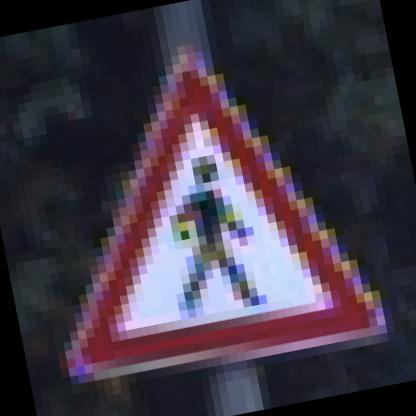crosswalk: (2, 14, 415, 415)
